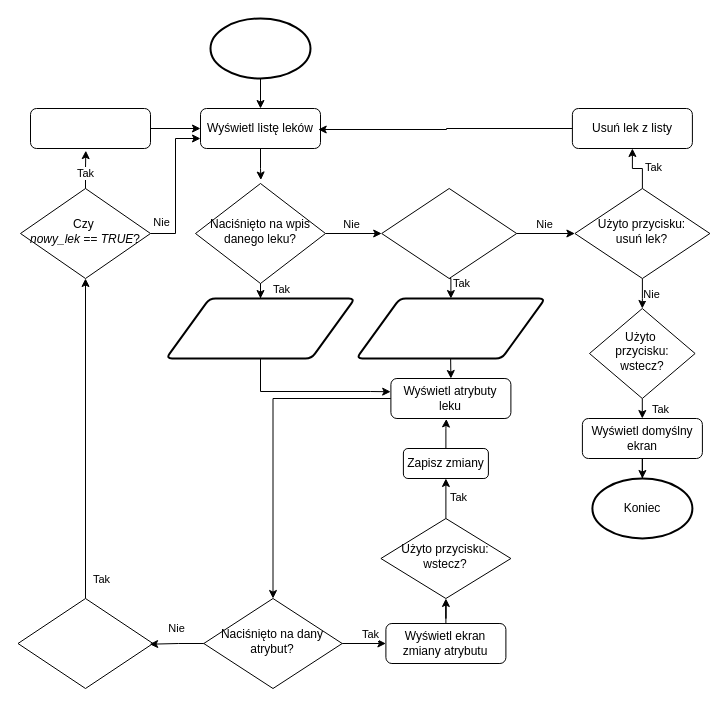
The diagram is 727 pixels wide and 706 high, and some of its shapes have lost their labels. Each missing label, with the centre of its shape:
Odczytaj wartości atrybutów bool nowy_lek = FALSE: (260,328)
Rozpocznij uzupełnianie: (90,128)
Start: (260,48)
Ustaw domyślne wartości atrybutów bool nowy_lek = TRUE: (450,328)
Użyto przycisku: dodaj lek?: (449,233)
Użyto przycisku: wstecz: (85,643)
